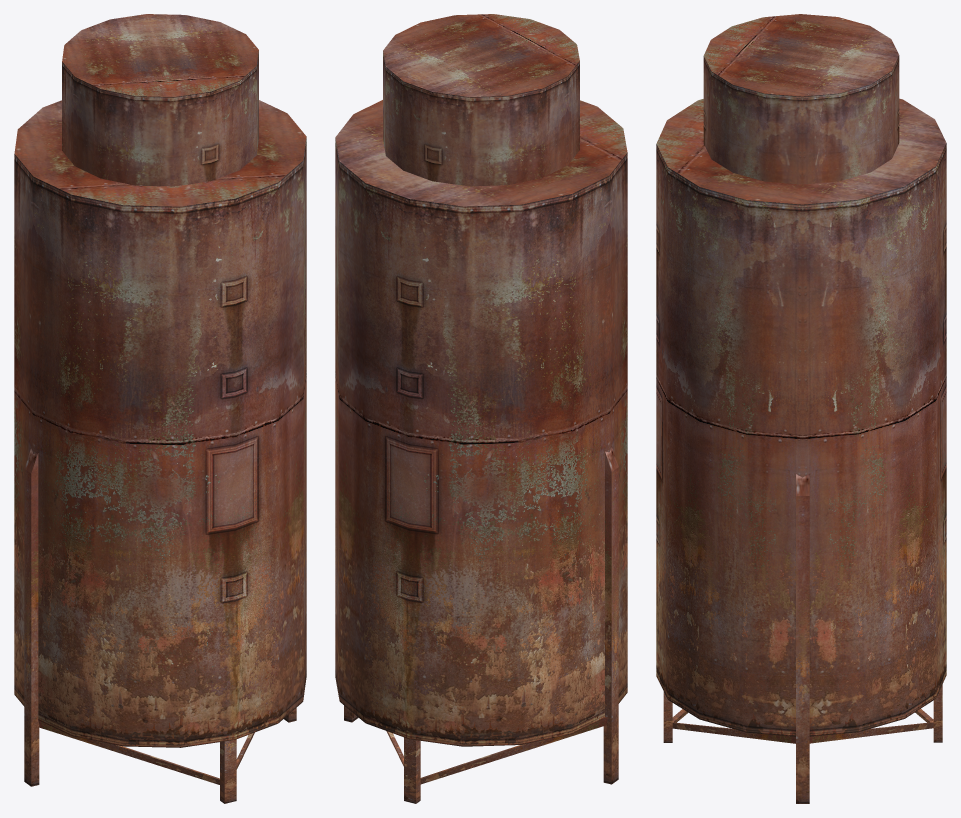
The model's file is BoilerB.fbx.
3 views of the same model, side by side, from view 1: azimuth 30°, elevation 25°; view 2: azimuth 150°, elevation 25°; view 3: azimuth 270°, elevation 25° (orthographic).
Visible parts, largest first — view 1: BoilerB; view 2: BoilerB; view 3: BoilerB.
Boxes of the visible parts, left/top/right/bottom form: BoilerB: left=14, top=14, right=306, bottom=803; BoilerB: left=335, top=14, right=627, bottom=803; BoilerB: left=656, top=14, right=946, bottom=803.
Size of the model in its own units: 179 by 447 by 172.
